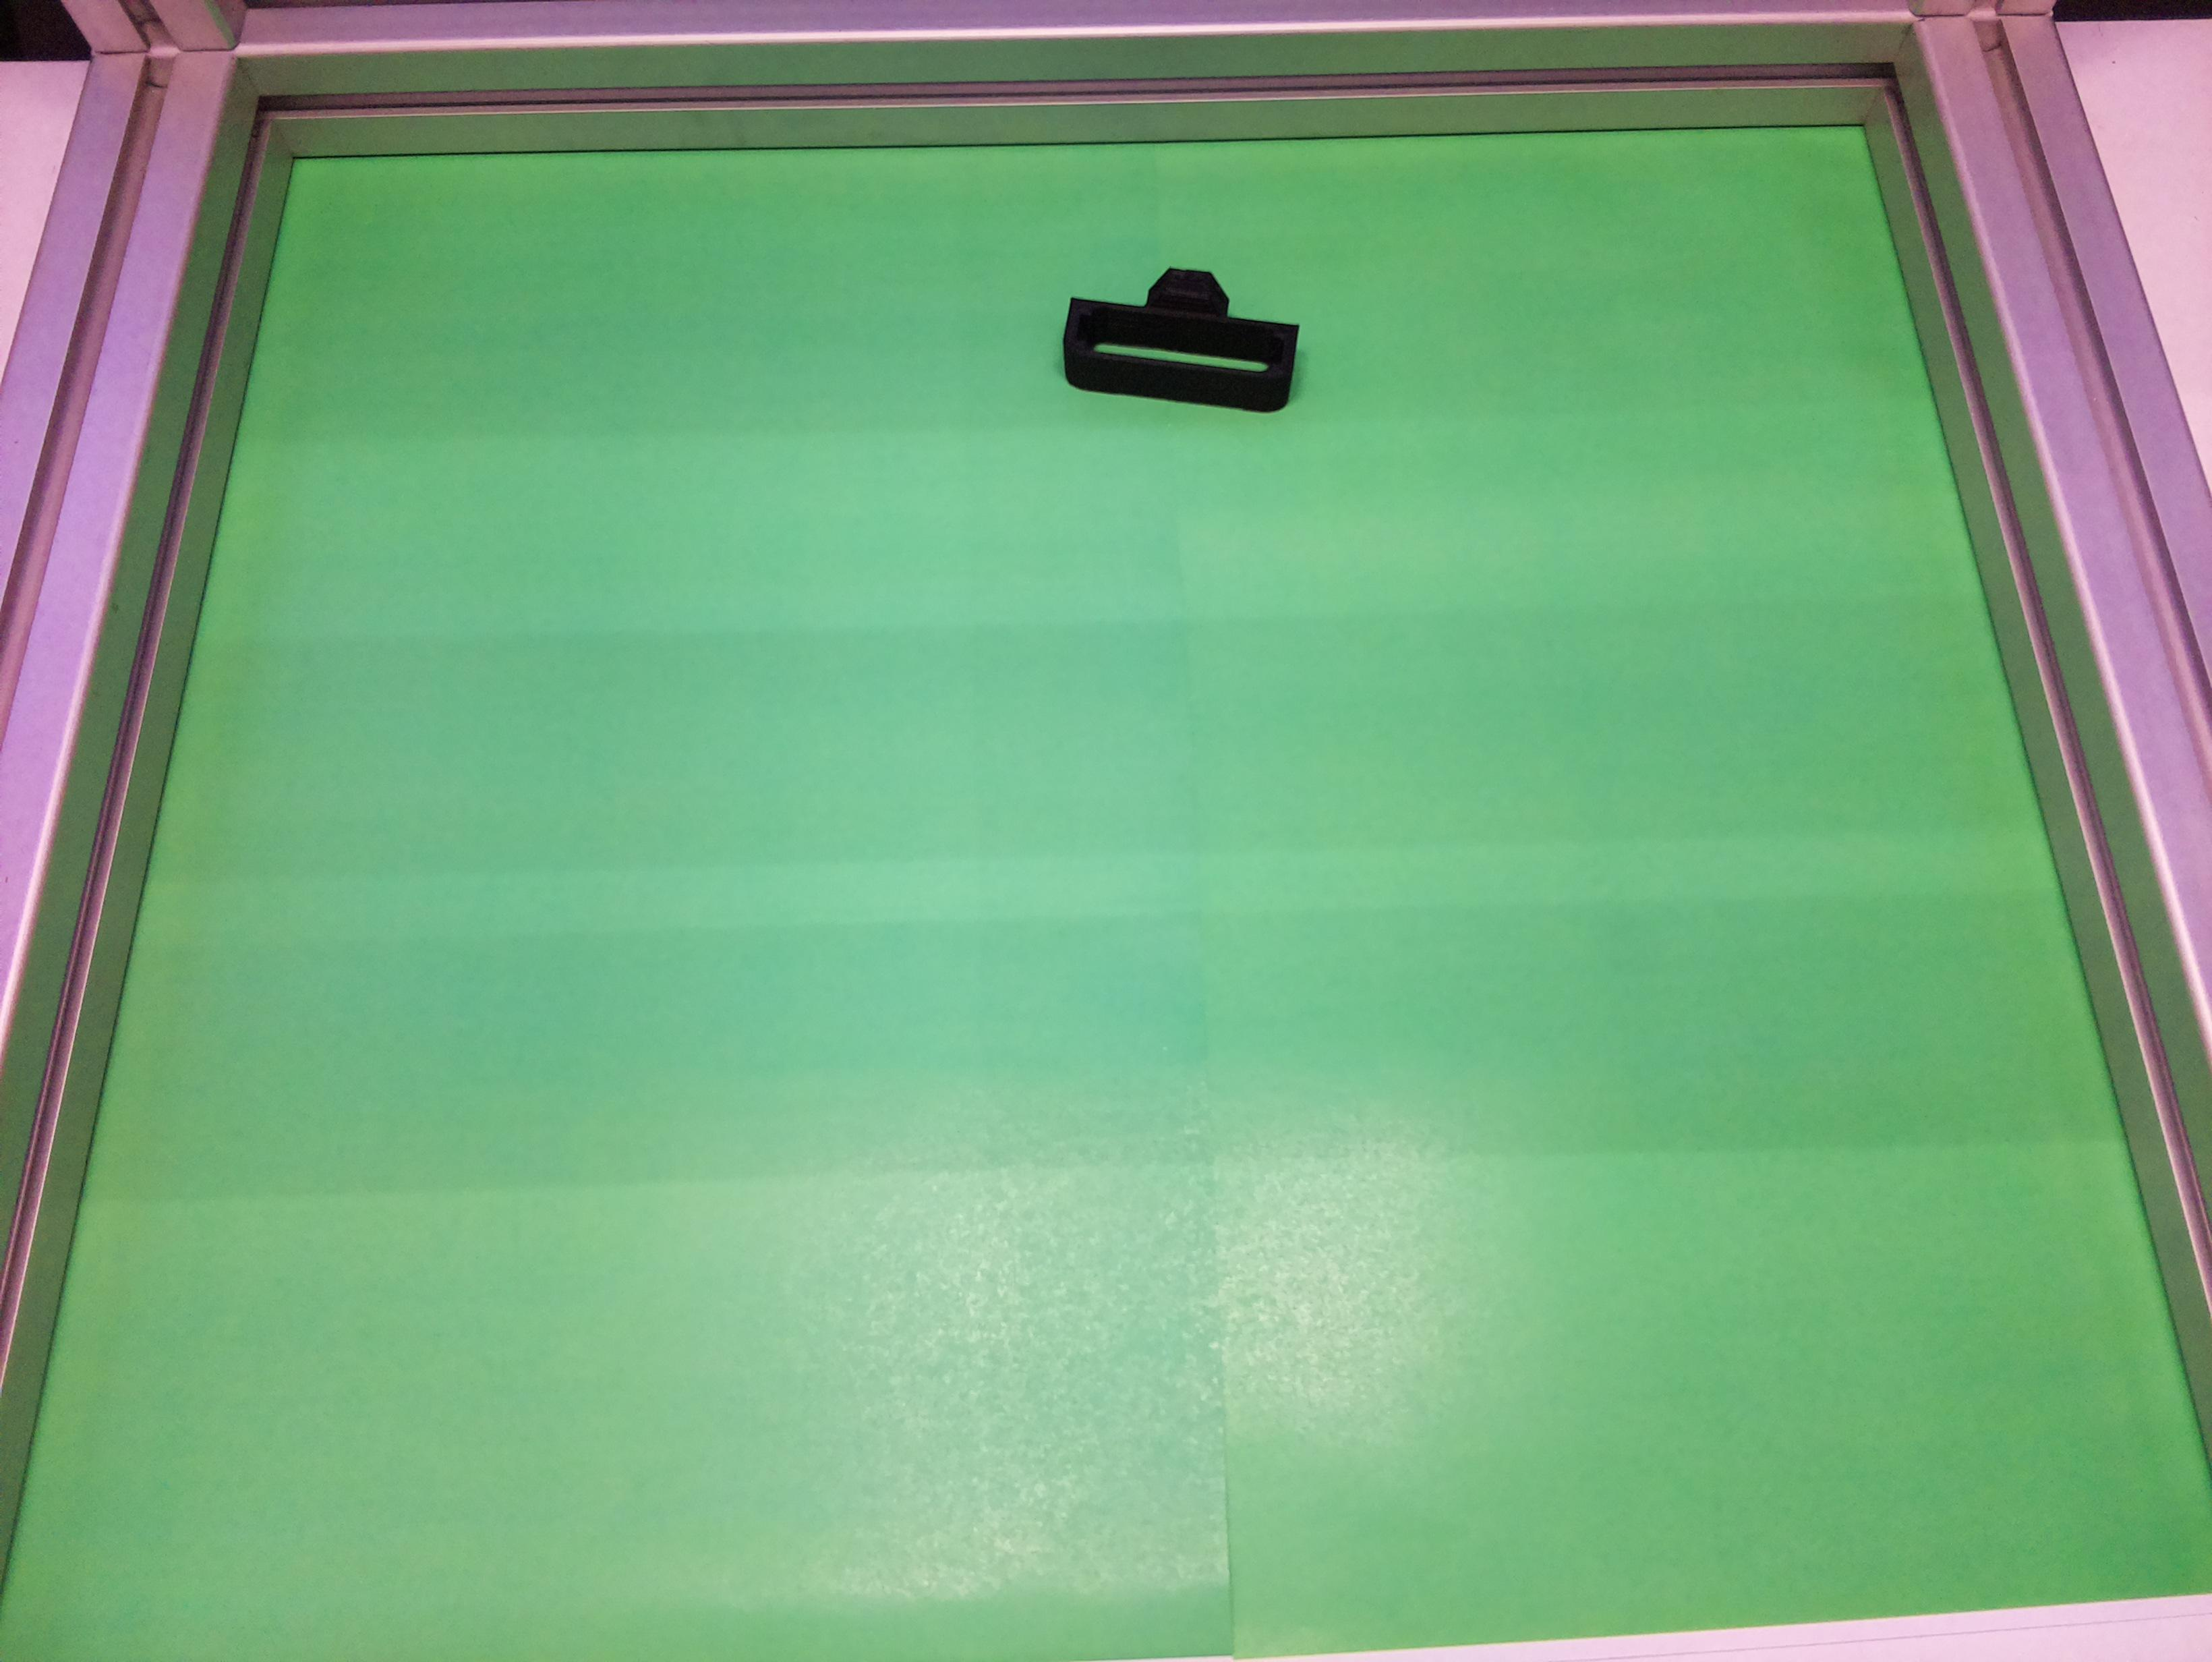cutter_holder: (1056, 253, 1304, 417)
